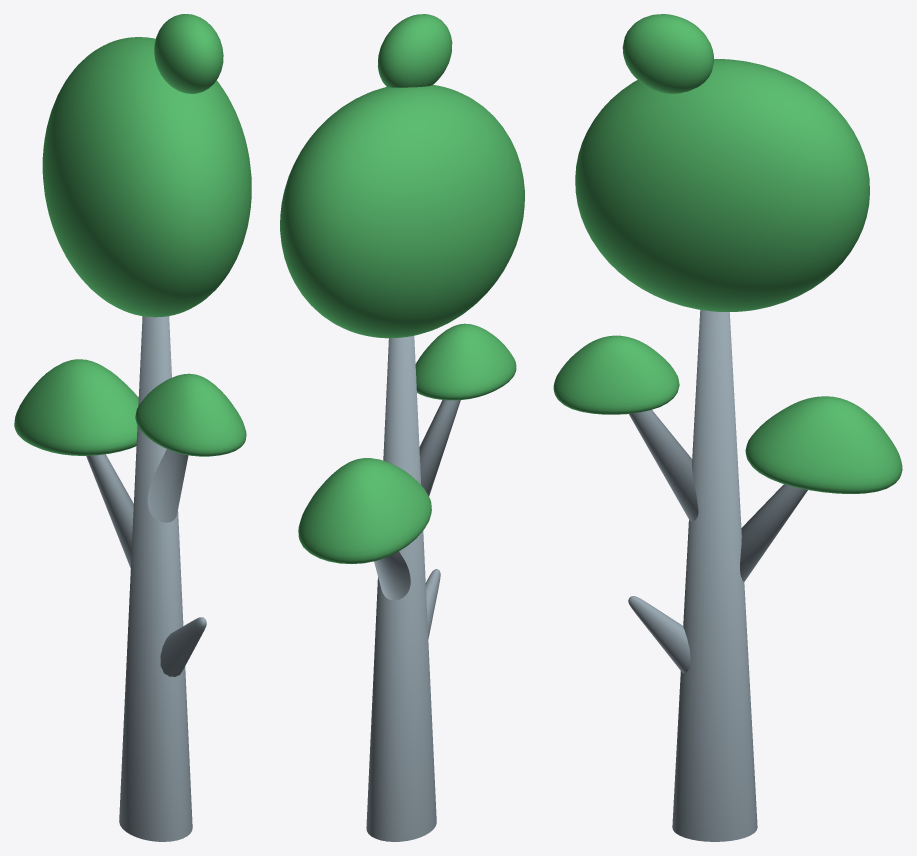
The model's file is Tree_5.fbx.
3 views of the same model, side by side, from view 1: azimuth 30°, elevation 25°; view 2: azimuth 150°, elevation 25°; view 3: azimuth 270°, elevation 25° (orthographic). The views are drawn at different scales.
Visible parts, largest first — view 1: Tree_5; view 2: Tree_5; view 3: Tree_5.
Part boxes in pixels (x1,y1,x2,y2): Tree_5: (14, 14, 251, 841); Tree_5: (280, 14, 524, 841); Tree_5: (553, 14, 902, 841).
Size of the model in its own units: 107 by 470 by 182.
